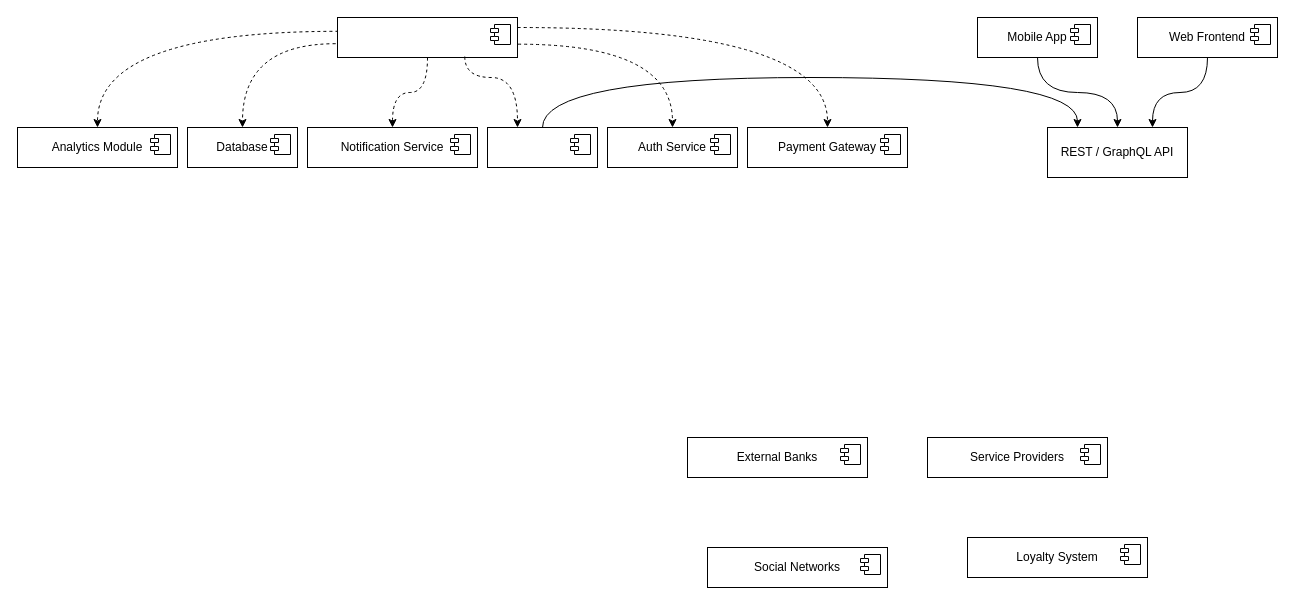
This 1295x605 diagram has some shape labels left out. The shapes that lost their labels are listed below. From the top down, each one's centre as x and y in pixels, then its label:
At pixel 427 37: "Monitoring System".
At pixel 542 147: "Backend".
